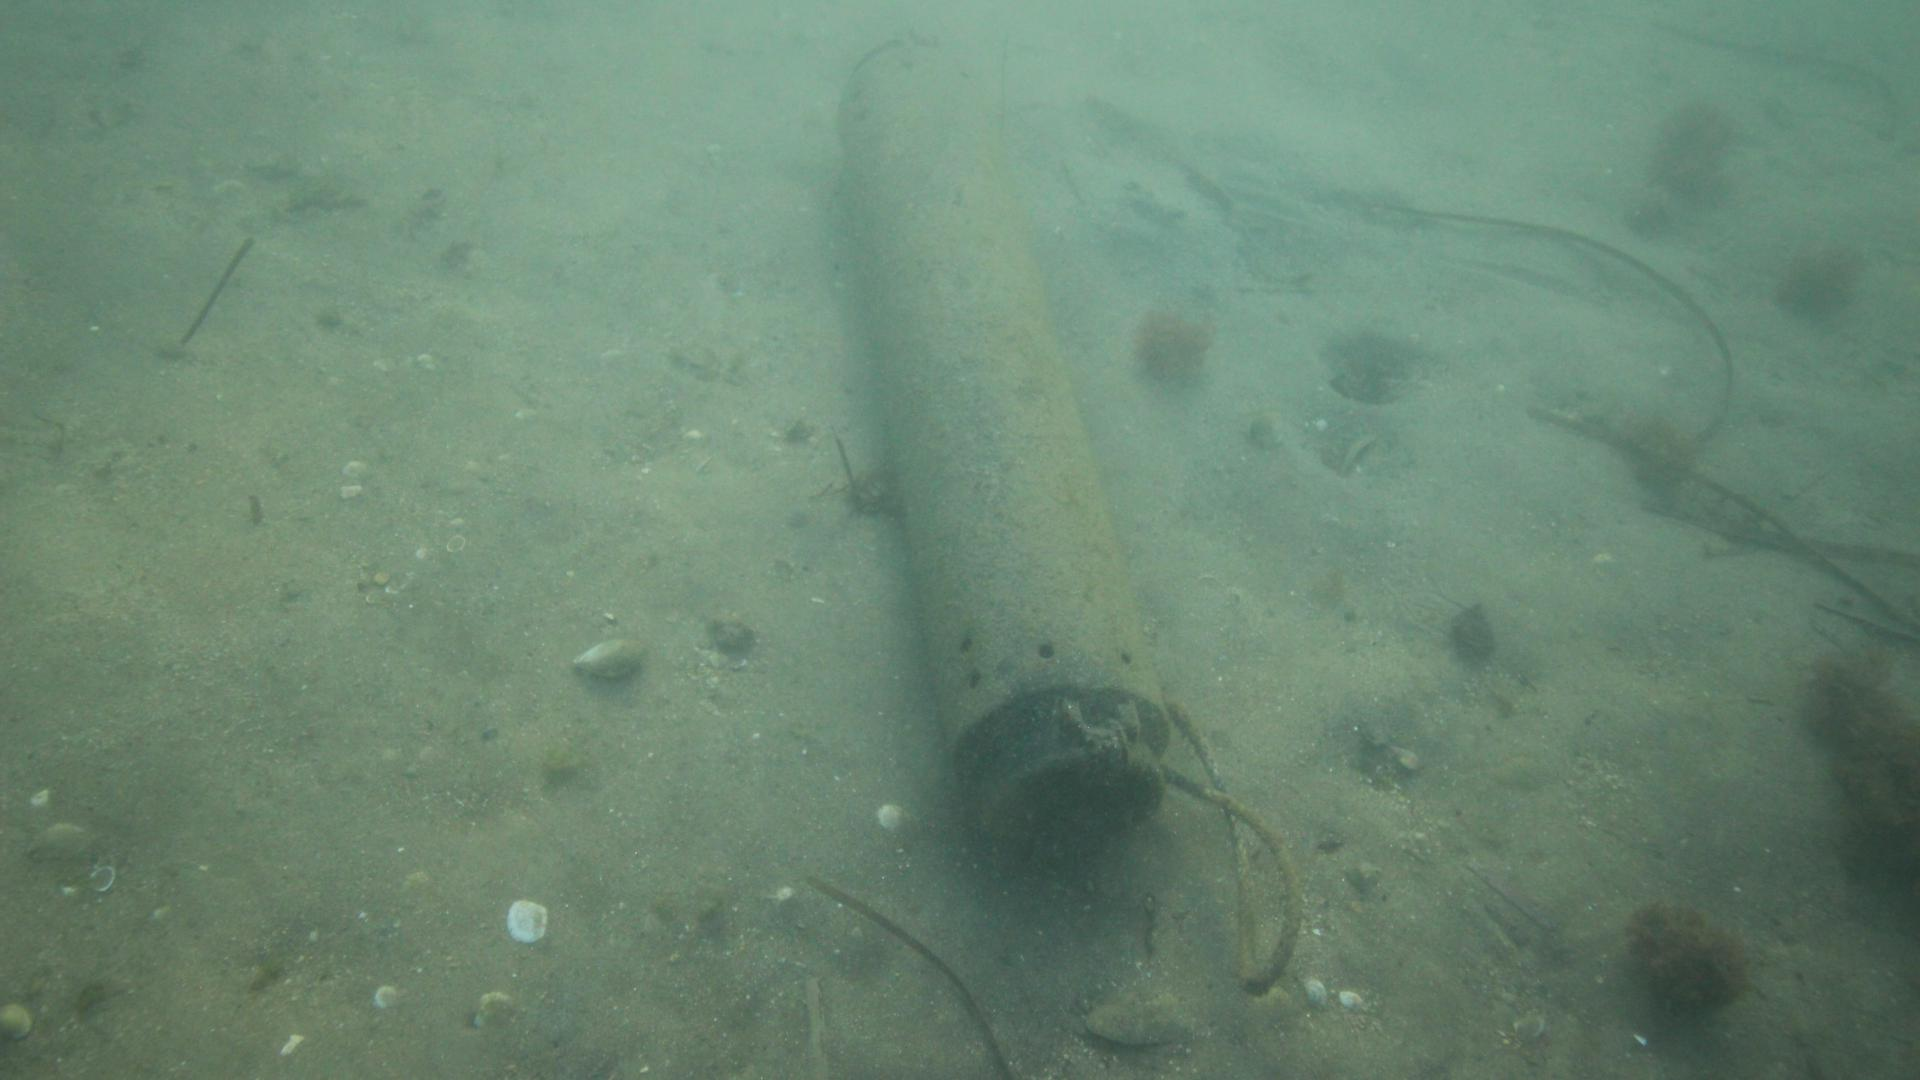eel fish trap: (844, 38, 1170, 860)
rope: (1164, 691, 1303, 996)
